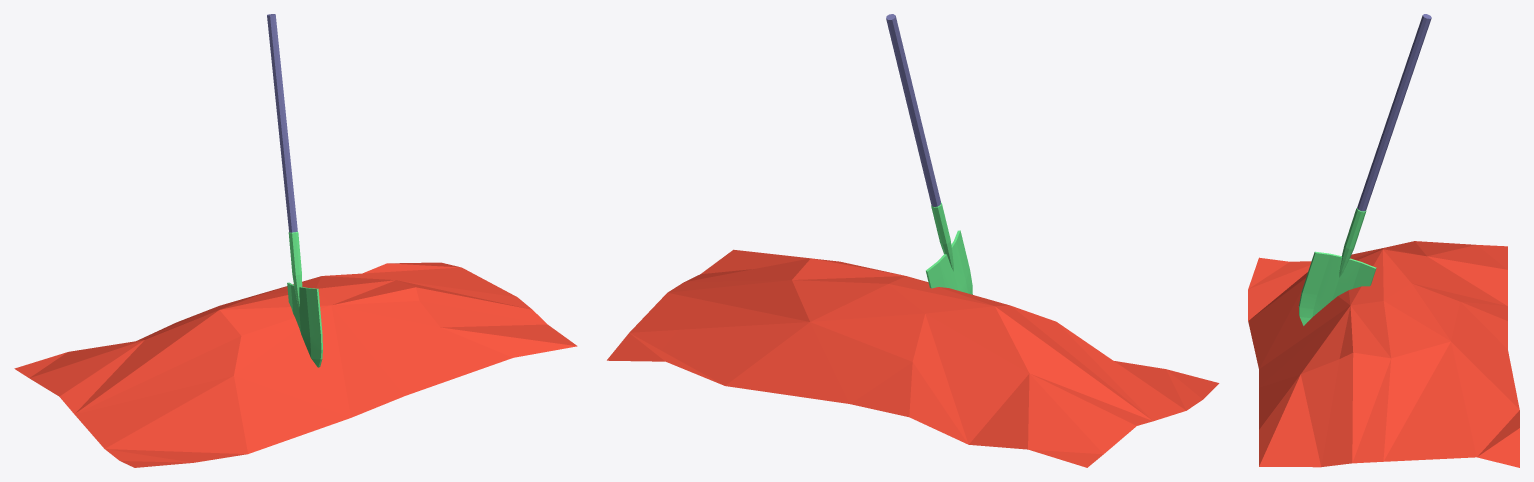
The model's file is SM_Shovel_ground_01.fbx.
3 renders of one model, left to right at view 1: azimuth 30°, elevation 25°; view 2: azimuth 150°, elevation 25°; view 3: azimuth 270°, elevation 25°, orthographic. The views are drawn at different scales.
Visible parts, largest first — view 1: Ground; view 2: Ground; view 3: Ground.
Part boxes in pixels (x1,y1,x2,y2): Ground: (14,14,577,467); Ground: (607,14,1219,467); Ground: (1248,14,1519,467).
Bounding box in the file's own units: 148 × 112 × 76.29.
